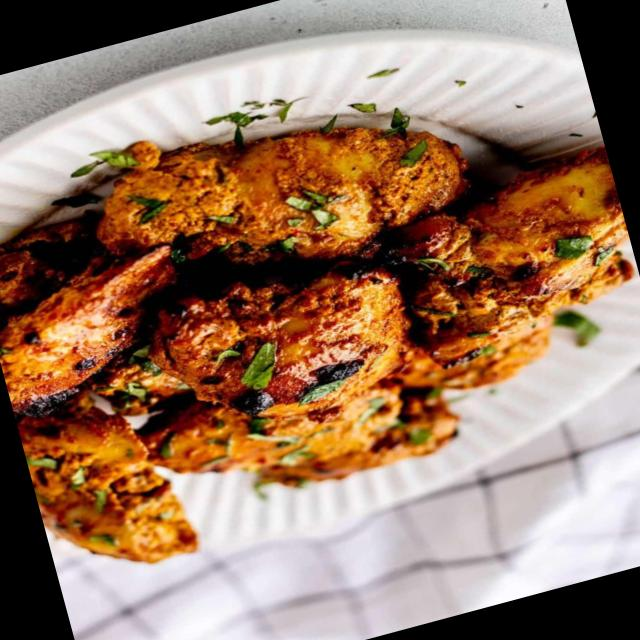chicken: (0, 57, 640, 580)
